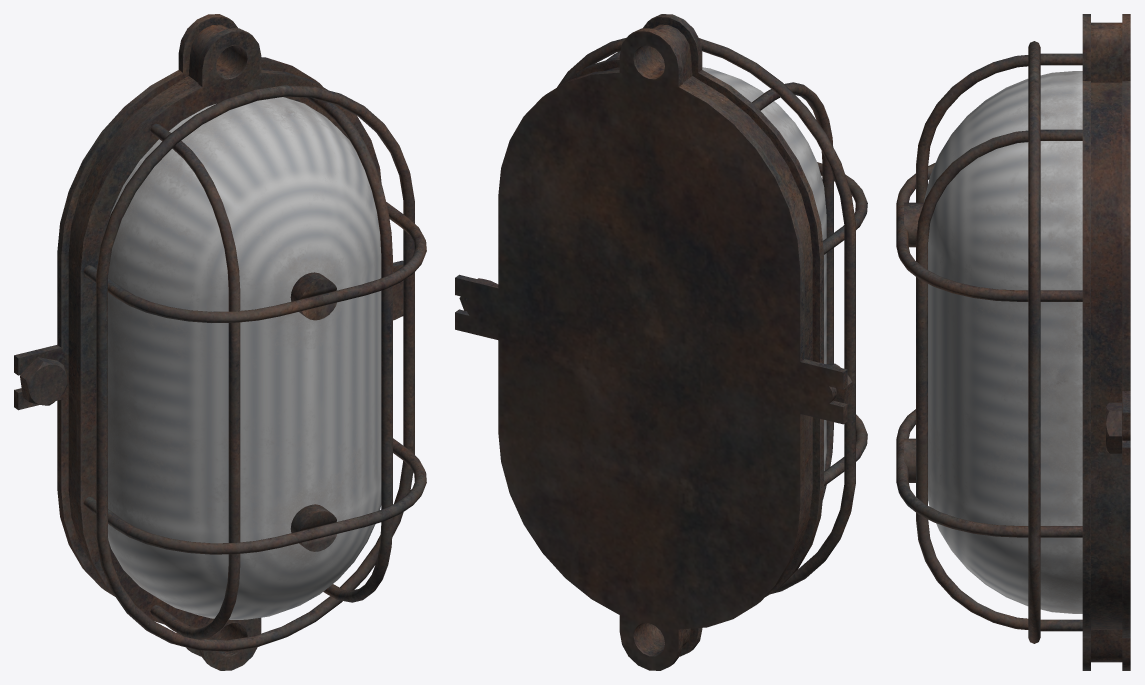
File: industrial_wall_lamp.fbx
3 renders of one model, left to right at view 1: azimuth 30°, elevation 25°; view 2: azimuth 150°, elevation 25°; view 3: azimuth 270°, elevation 25°, orthographic.
Parts seen in each view (by area): view 1: industrial_wall_lamp; view 2: industrial_wall_lamp; view 3: industrial_wall_lamp.
Part boxes in pixels (box(x1,y1,x2,y2)): industrial_wall_lamp: box(14, 14, 426, 670); industrial_wall_lamp: box(455, 14, 867, 670); industrial_wall_lamp: box(896, 14, 1130, 670).
Bounding box in the file's own units: 0.2735 × 0.4299 × 0.1404.
2 materials, 2 textured.
